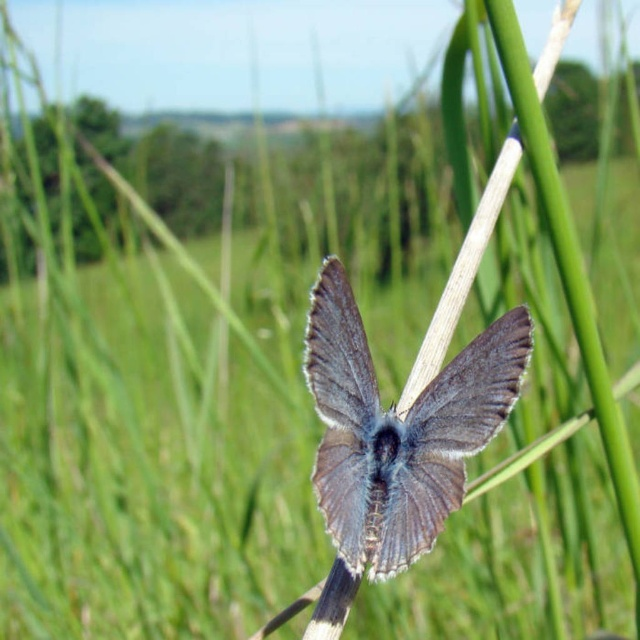Butterfly: (273, 242, 550, 608)
